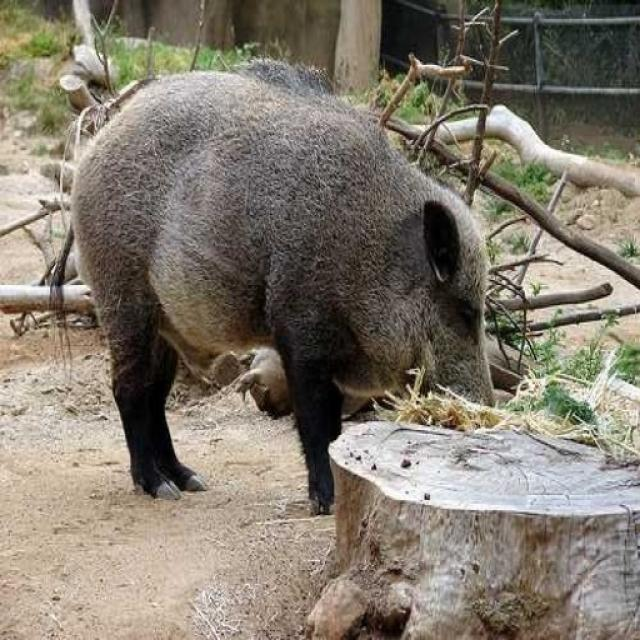pig: (24, 34, 568, 538)
